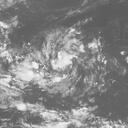cyclone: (31, 32, 100, 95)
